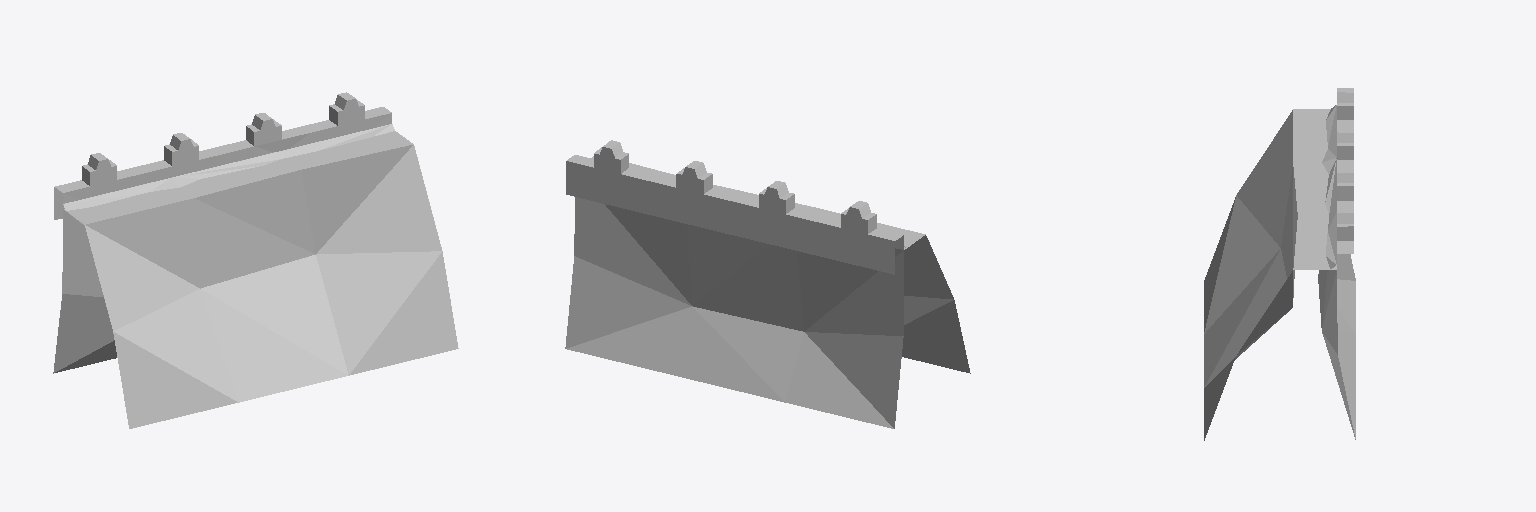
The model's file is templeStraightNarrowLongDownHorz_prefab.obj.
The picture shows the model from 3 angles: view 1: azimuth 30°, elevation 25°; view 2: azimuth 150°, elevation 25°; view 3: azimuth 270°, elevation 25°; orthographic projection.
Visible parts, largest first — view 1: Object244-Pivot; view 2: Object244-Pivot; view 3: Object244-Pivot.
Boxes of the visible parts, box(x1,y1,x2,y2) form: Object244-Pivot: box(53, 92, 458, 428); Object244-Pivot: box(565, 140, 970, 428); Object244-Pivot: box(1204, 88, 1355, 440).
Bounding box in the file's own units: 60.17 × 36.77 × 24.07.